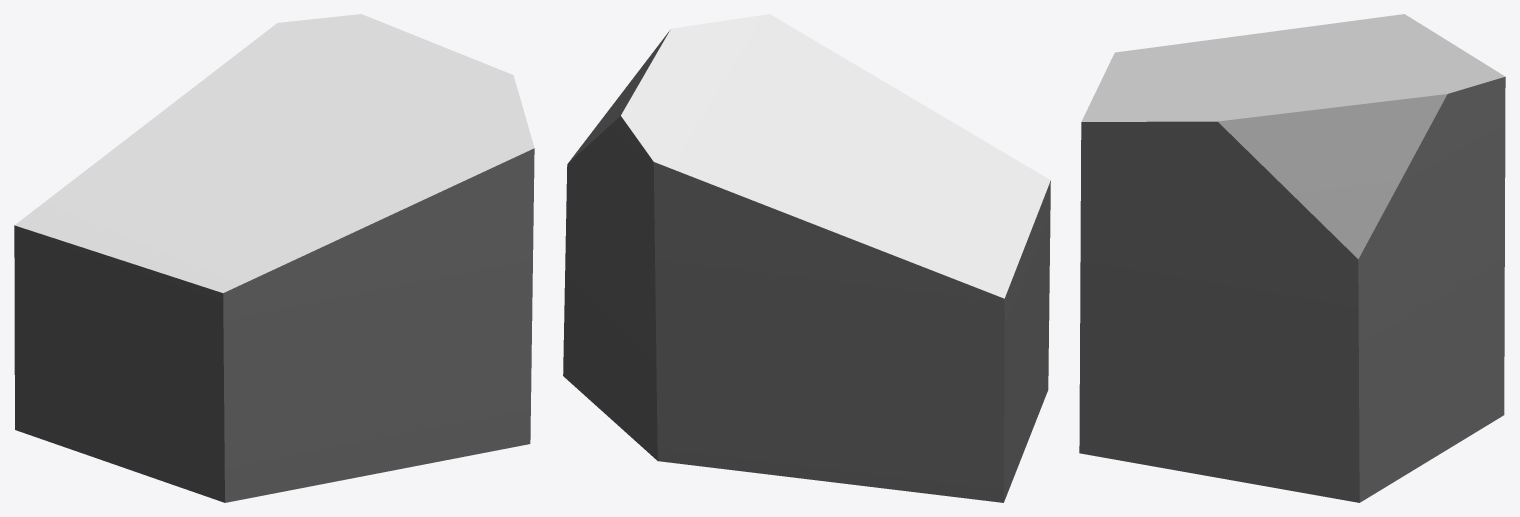
File: stone winter small 6.fbx
3 renders of one model, left to right at view 1: azimuth 30°, elevation 25°; view 2: azimuth 150°, elevation 25°; view 3: azimuth 270°, elevation 25°, orthographic. The views are drawn at different scales.
Parts seen in each view (by area): view 1: stone winter small 6; view 2: stone winter small 6; view 3: stone winter small 6.
Boxes of the visible parts, box(x1,y1,x2,y2) form: stone winter small 6: box(14, 14, 534, 502); stone winter small 6: box(563, 14, 1050, 502); stone winter small 6: box(1079, 14, 1505, 502).
Size of the model in its own units: 51.95 by 33.66 by 36.49.
